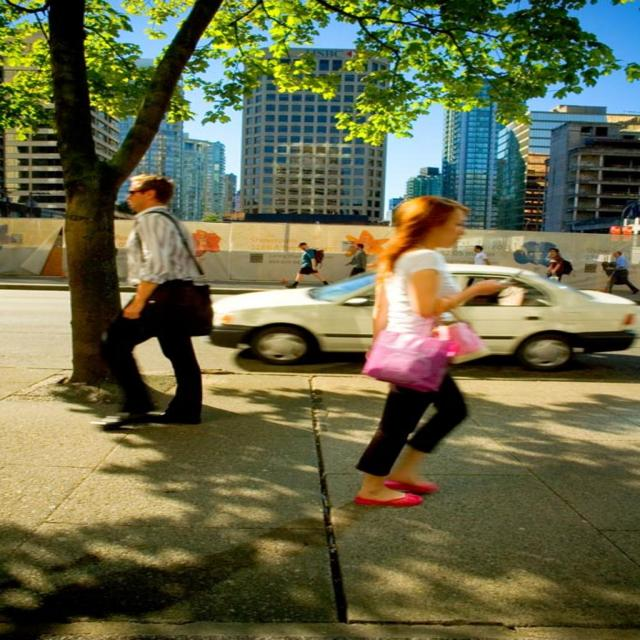nomask: (433, 208, 465, 248), (125, 180, 149, 208)
